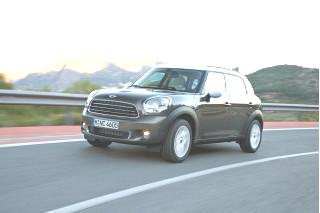mini: (105, 92, 119, 102)
